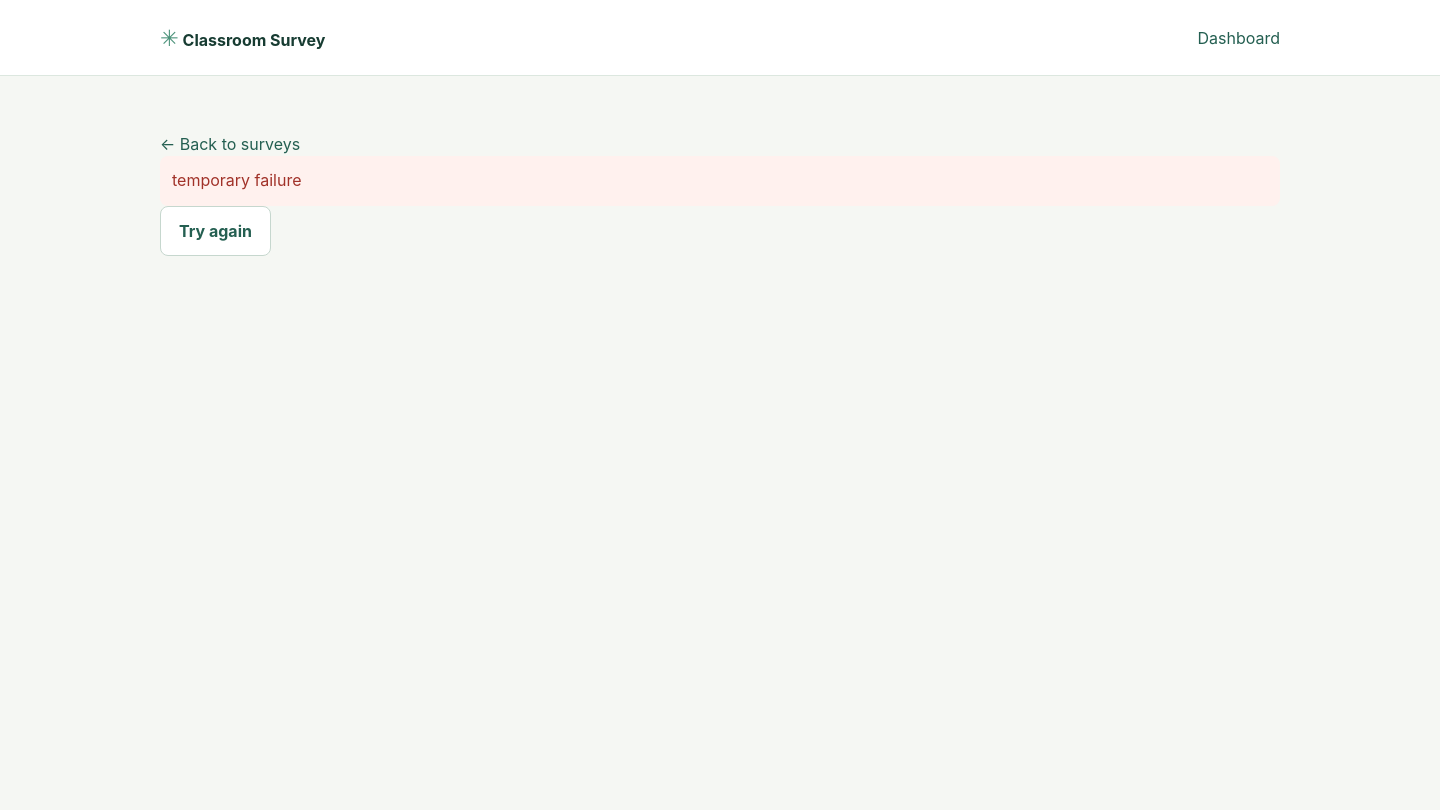
results page › refreshes counts and clears a previous load error after recovery
This screenshot has width=1440, height=810.
Expected: the message "temporary failure" is shown, [160, 156, 1280, 206]
Click the button "Try again".
click(216, 231)  # box [160, 206, 271, 256]
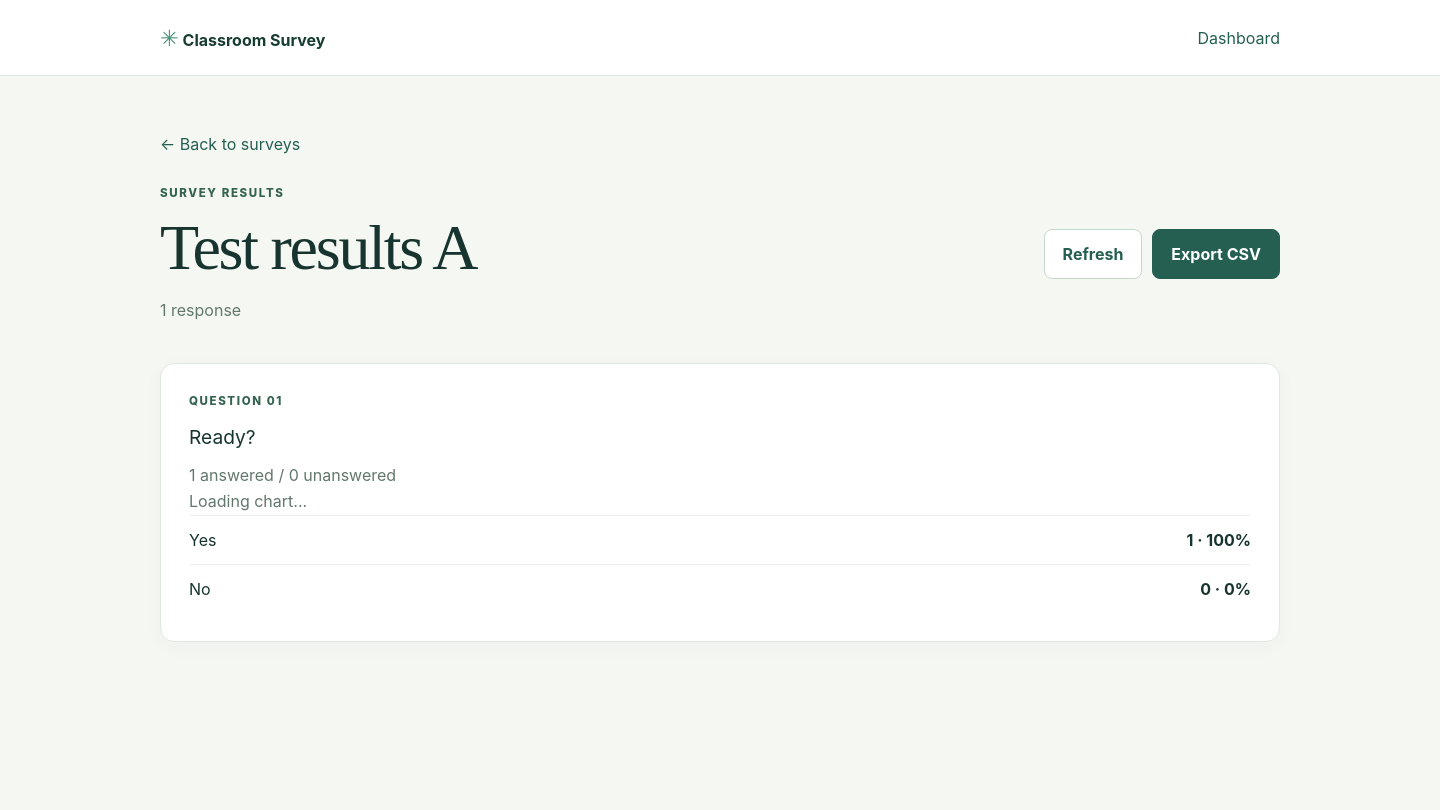
Result: the text "1 response" is shown at [160, 300, 241, 320]
Result: the message "temporary failure" is gone
